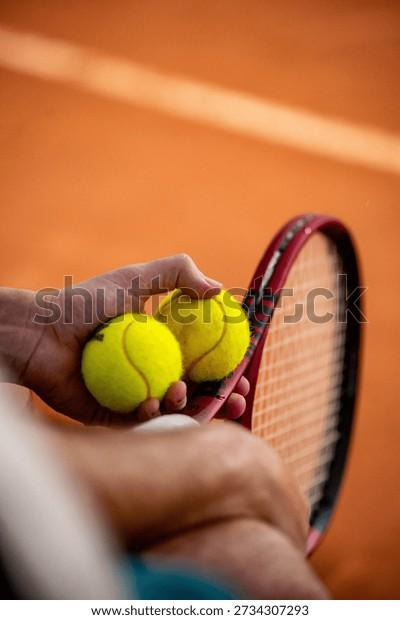ball_tennis: (155, 280, 256, 381), (83, 311, 183, 409)
